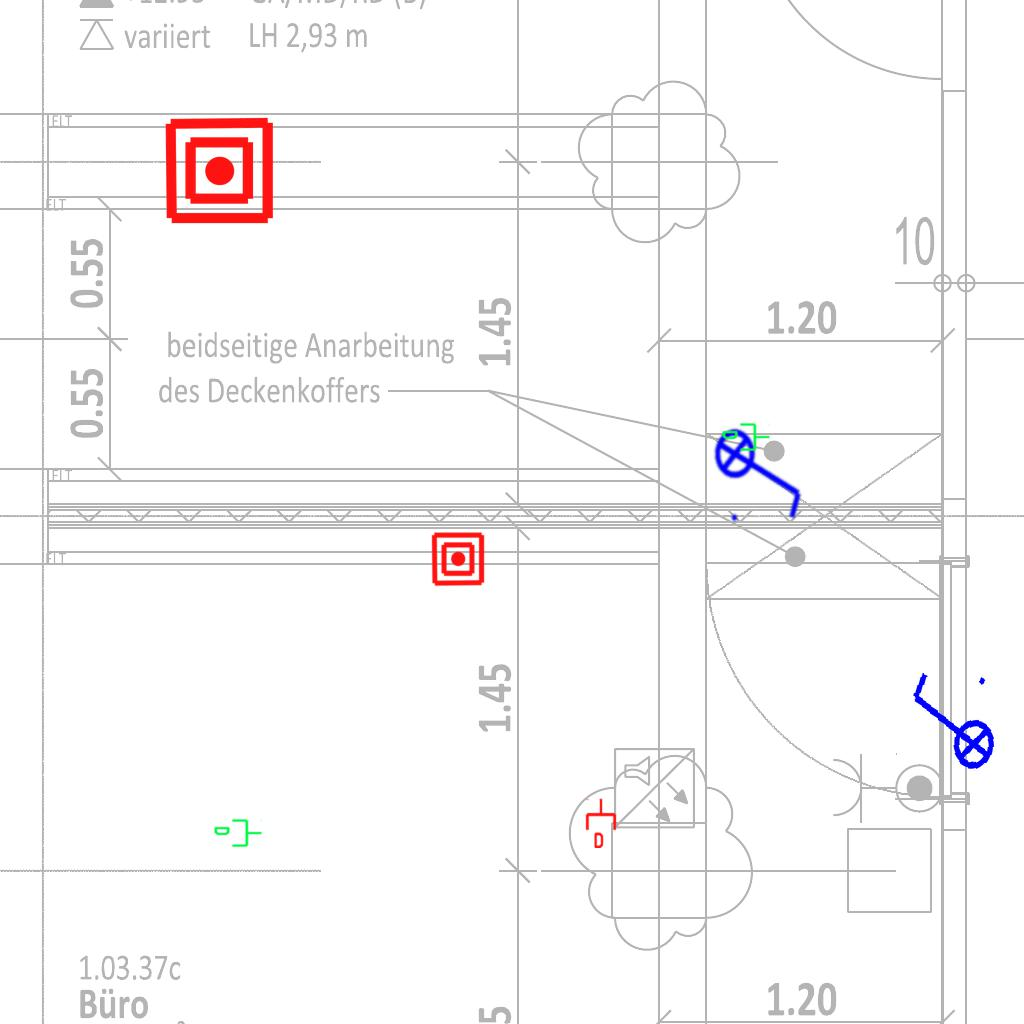Ausschalter_beleuchtet: (895, 662, 1005, 786), (713, 415, 809, 527)
Datenanschluss_einfach: (213, 817, 263, 851), (584, 798, 618, 848), (721, 421, 771, 455)
NAM-Nichtautomatischer_Melder: (163, 114, 276, 227), (430, 531, 486, 587)
